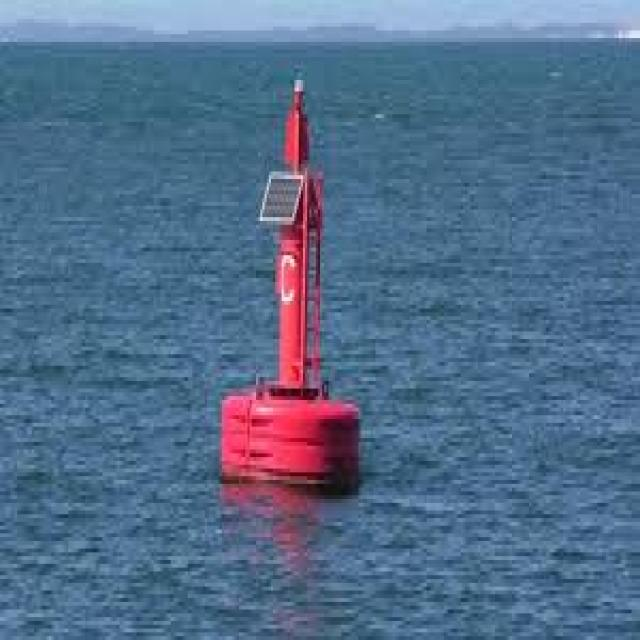2.1 lateral mark -P-: (213, 48, 363, 515)
